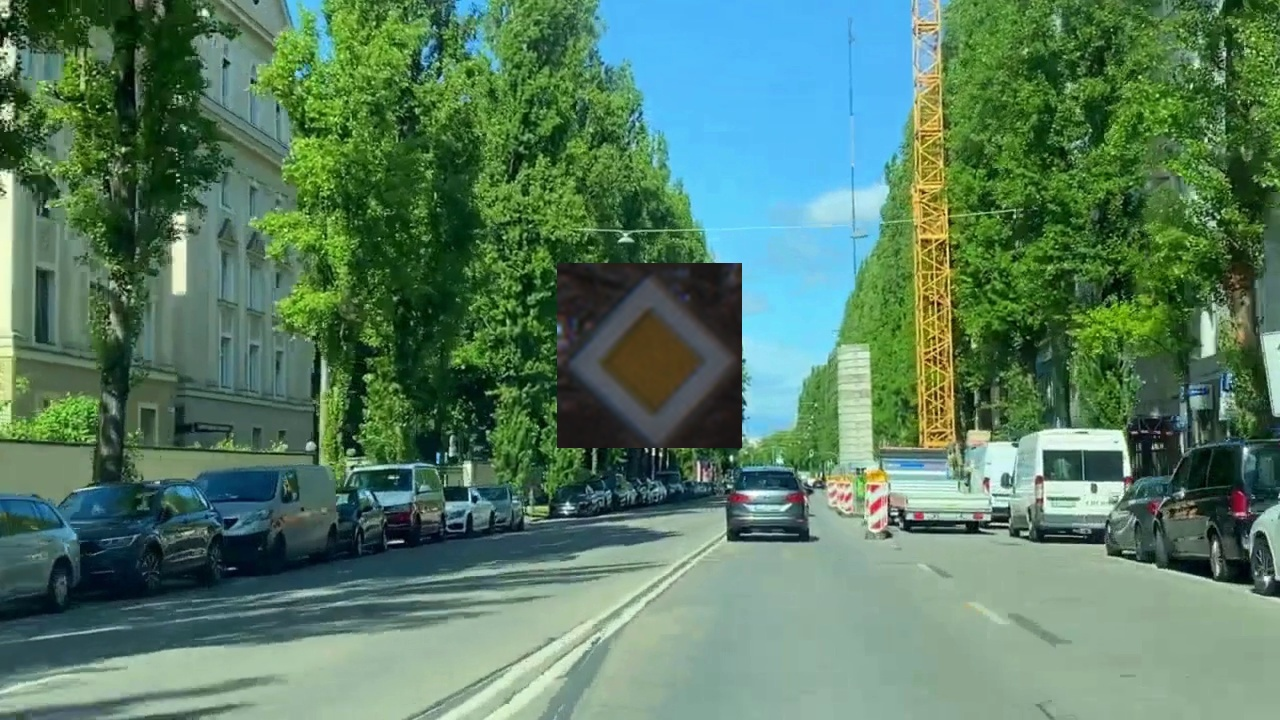Priority road: (557, 263, 742, 448)
